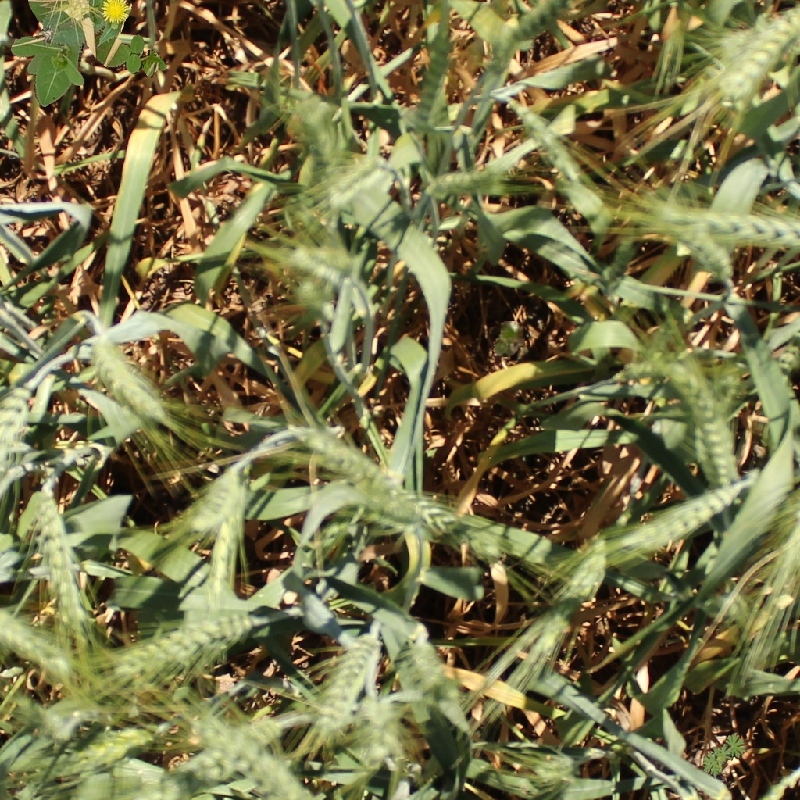spikelet: (111, 606, 258, 679), (612, 485, 758, 549), (710, 1, 799, 102), (382, 491, 512, 560), (31, 486, 90, 625), (678, 363, 742, 487), (310, 627, 384, 734), (646, 200, 800, 251), (293, 421, 401, 493), (86, 331, 169, 420), (185, 709, 281, 778), (508, 98, 586, 182), (649, 213, 735, 285), (1, 600, 75, 676), (185, 461, 253, 536), (496, 1, 570, 68), (350, 691, 410, 768), (318, 148, 389, 207), (244, 748, 324, 800), (1, 377, 38, 488), (76, 721, 159, 768), (557, 536, 612, 601), (401, 626, 452, 694), (417, 164, 507, 202), (284, 240, 355, 285), (423, 17, 450, 133), (698, 731, 748, 776), (528, 749, 579, 790)
weed: (1, 1, 148, 94), (703, 733, 748, 779), (495, 321, 525, 357)
